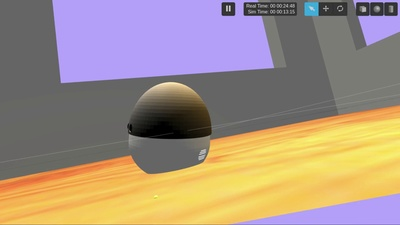mira_robot: (126, 82, 212, 174)
